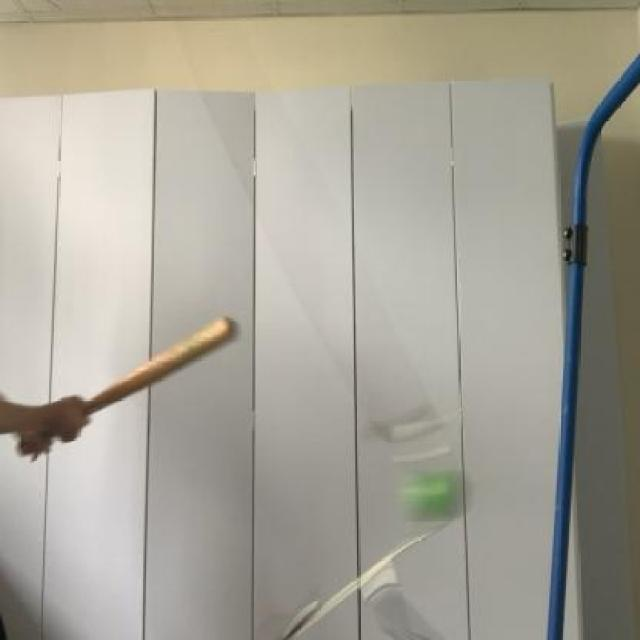baseball: (393, 450, 475, 521)
